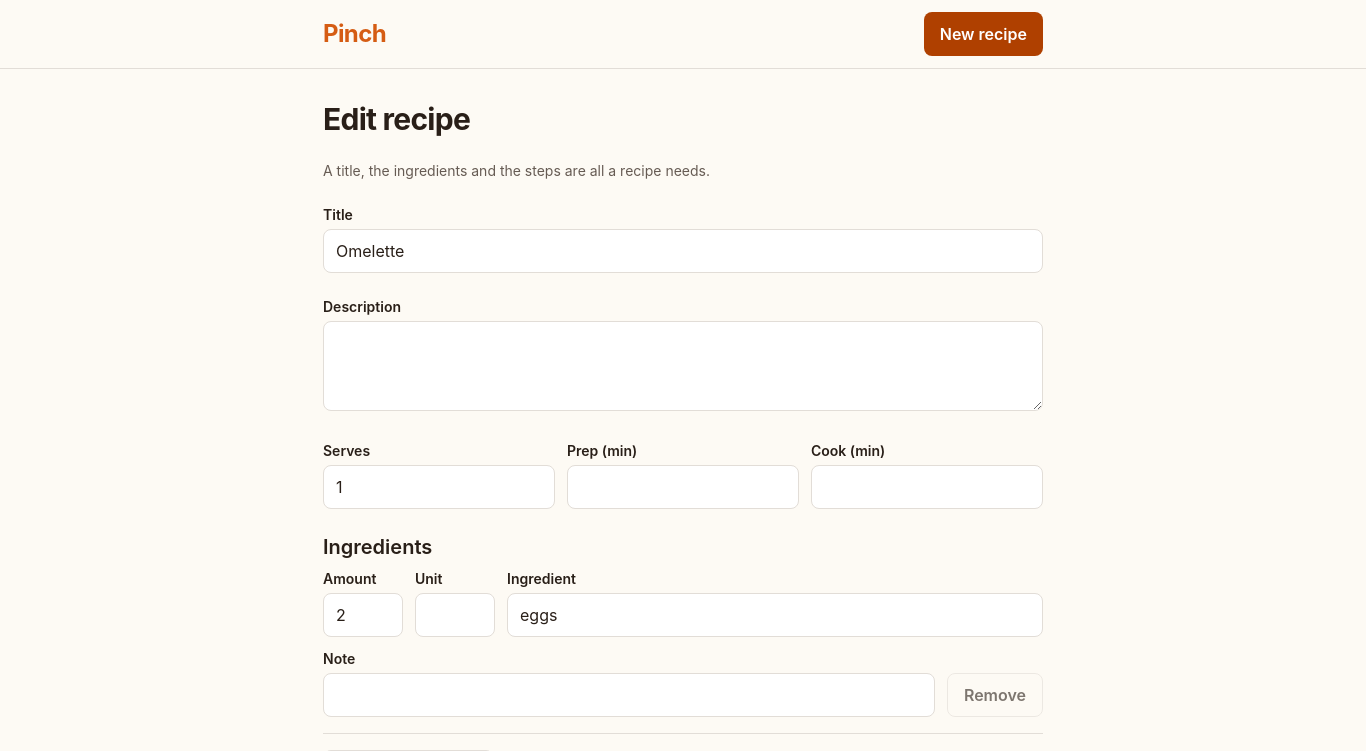
Test: a failed refetch keeps the form and what was typed
This screenshot has width=1366, height=751.
Type " with herbs" into the field labelled "Title". click: (683, 251)
box: [323,229,1043,273]
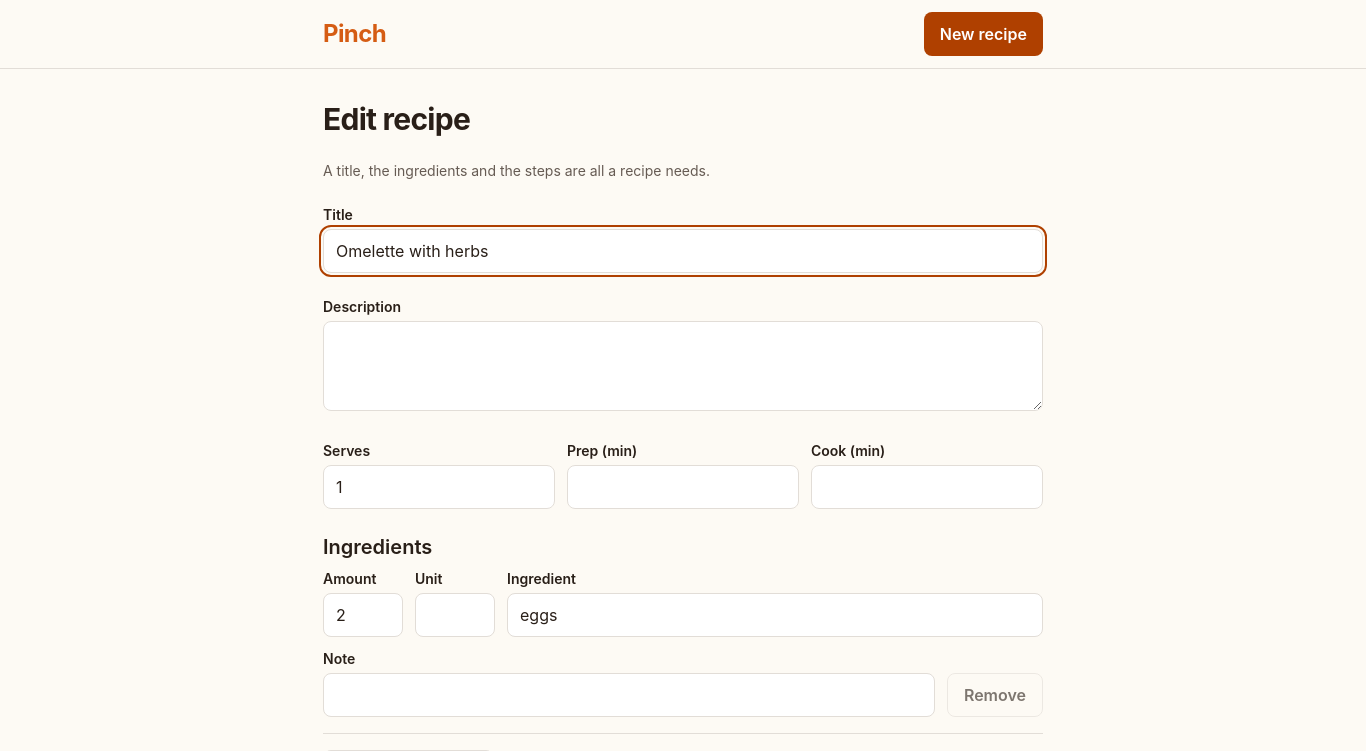
Expected: the field labelled "Title" holds "Omelette with herbs", [323,229,1043,273]
